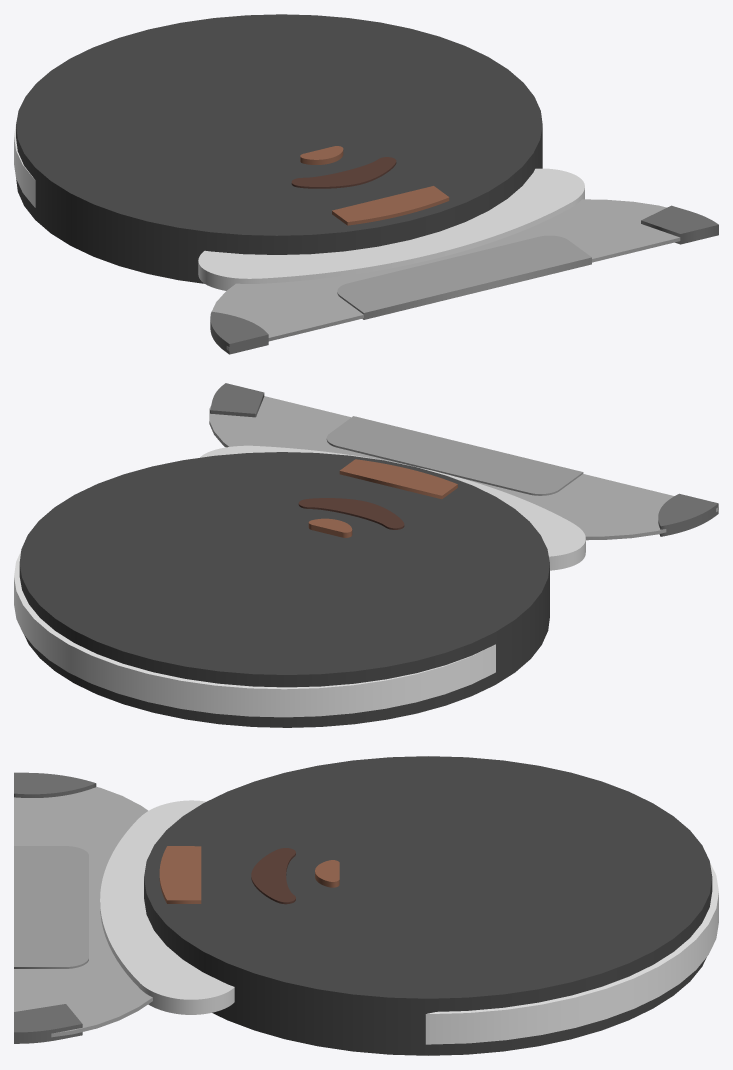
File: emoji_u1f469_1f3fd_200d_1f680.glb
The picture shows the model from 3 angles, top to bottom: view 1: azimuth 30°, elevation 25°; view 2: azimuth 150°, elevation 25°; view 3: azimuth 270°, elevation 25°; orthographic projection. The views are drawn at different scales.
Visible parts, largest first — view 1: emoji_u1f469_1f3fd_200d_1f680; view 2: emoji_u1f469_1f3fd_200d_1f680; view 3: emoji_u1f469_1f3fd_200d_1f680.
Part boxes in pixels (x1,y1,x2,y2): emoji_u1f469_1f3fd_200d_1f680: [14, 14, 718, 354]; emoji_u1f469_1f3fd_200d_1f680: [14, 383, 718, 727]; emoji_u1f469_1f3fd_200d_1f680: [14, 756, 718, 1055].
Size of the model in its own units: 0.0293 by 0.0036 by 0.0336.
